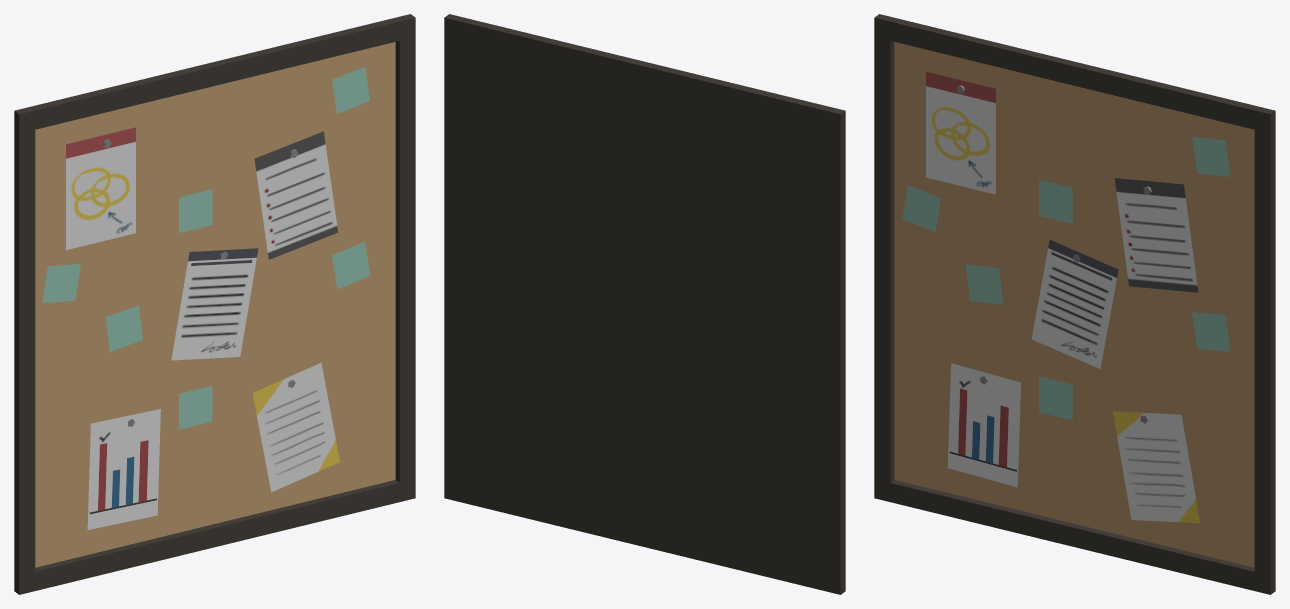
The model's file is board2.FBX.
3 renders of one model, left to right at view 1: azimuth 30°, elevation 25°; view 2: azimuth 150°, elevation 25°; view 3: azimuth 330°, elevation 25°, orthographic.
Visible parts, largest first — view 1: board2; view 2: board2; view 3: board2.
Boxes of the visible parts, <box> form: board2: <box>14,14,415,594</box>; board2: <box>444,14,845,594</box>; board2: <box>874,14,1275,594</box>.
Size of the model in its own units: 166 by 192 by 4.61.
